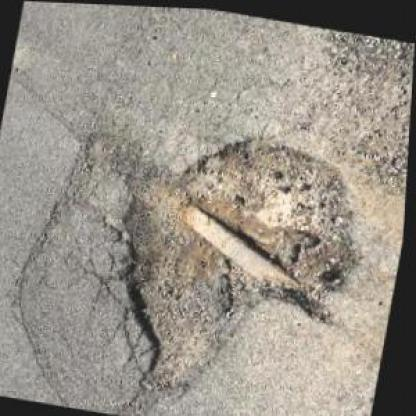pothole: (90, 110, 386, 414)
